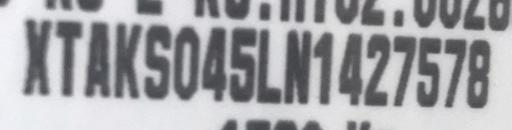letter: (20, 18, 54, 96), (226, 23, 258, 105), (52, 19, 84, 99), (282, 27, 314, 105), (113, 21, 143, 101), (200, 24, 230, 104), (254, 27, 284, 105), (171, 25, 201, 101), (362, 30, 392, 106), (84, 19, 112, 99), (144, 21, 172, 99), (336, 29, 364, 107), (415, 34, 443, 109), (392, 29, 418, 107), (464, 37, 492, 109), (443, 36, 469, 109), (312, 29, 334, 107)
